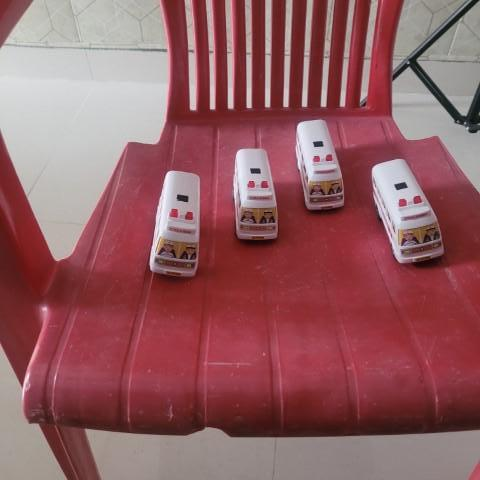ambulance: (368, 153, 446, 262), (149, 168, 205, 281), (229, 145, 284, 243), (293, 117, 347, 212)
